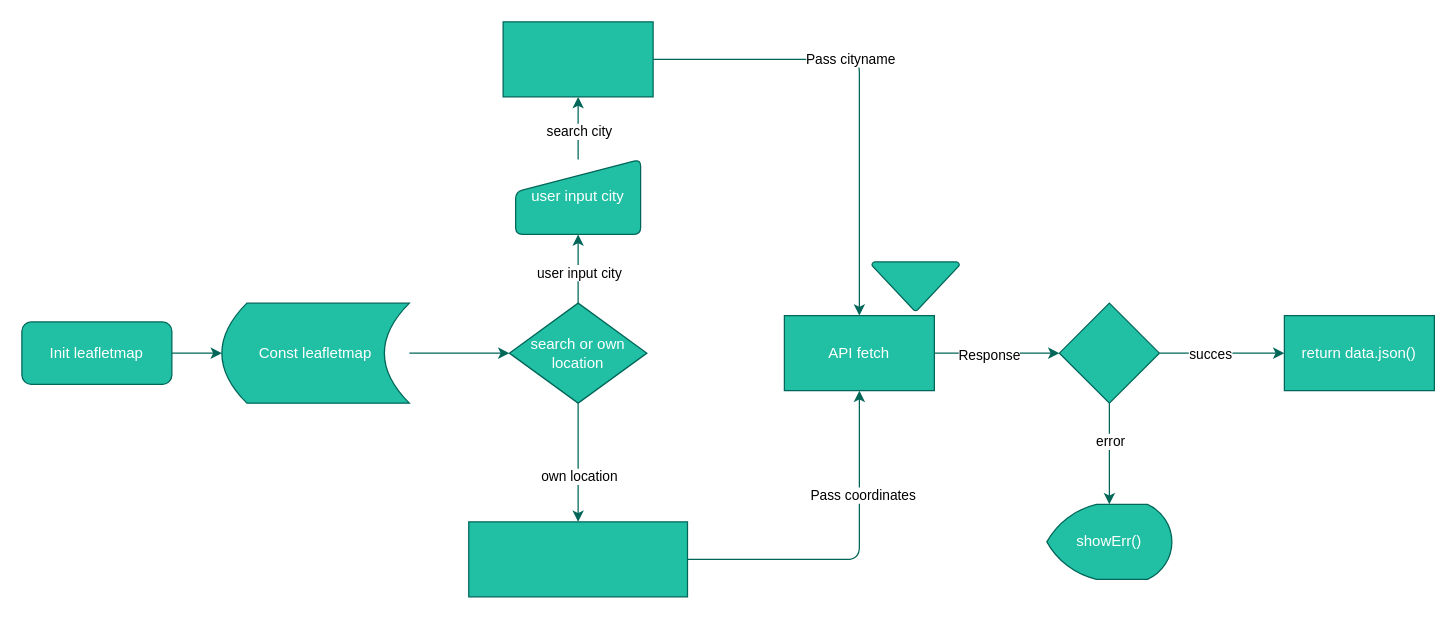
The diagram is 1456 pixels wide and 619 high, and some of its shapes have lost their labels. The shapes that lost their labels are listed below. From the top down, each one's centre as x and y in pixels, then its label:
(577,59): getWeatherCity(city)
(915,286): merge?
(1108,352): succes?
(578,559): getWeatherCoords(lat, lon)
